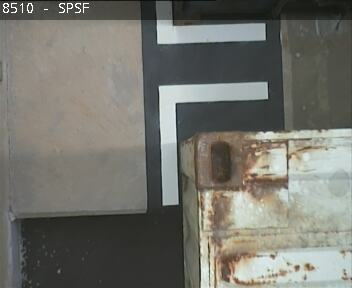groundmarker_1: (152, 1, 265, 206)
